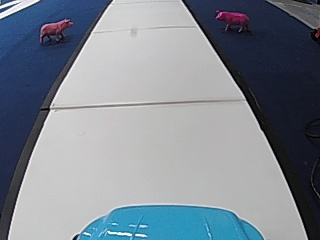pig: (213, 8, 250, 34), (37, 16, 72, 43)
